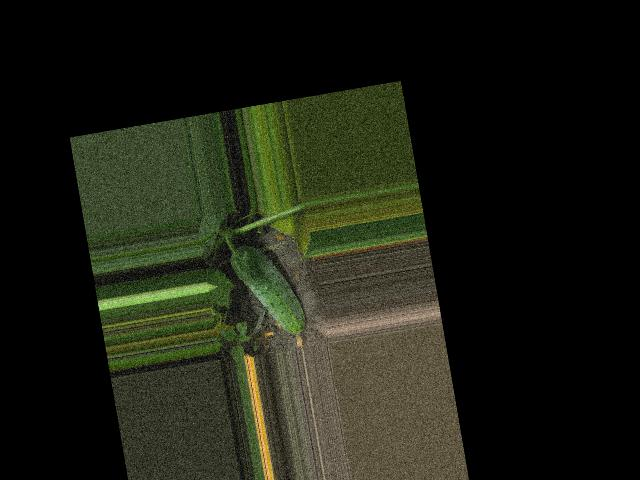cucumber: (228, 237, 310, 357)
